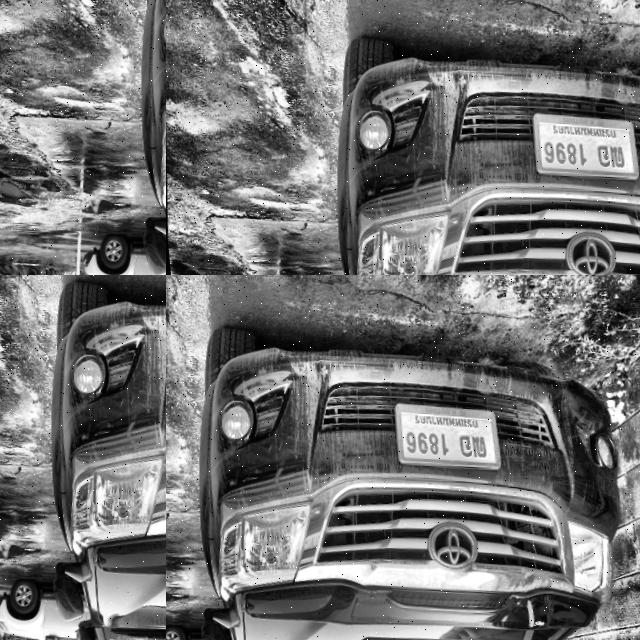license-plate: (386, 401, 500, 476)
